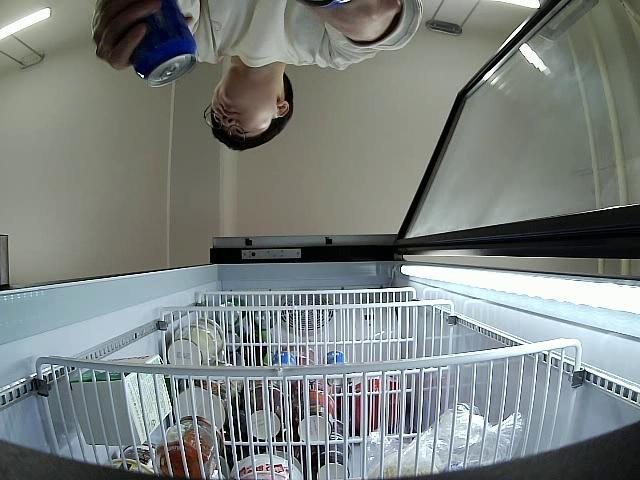13_pocariSweat: (115, 0, 198, 86)
